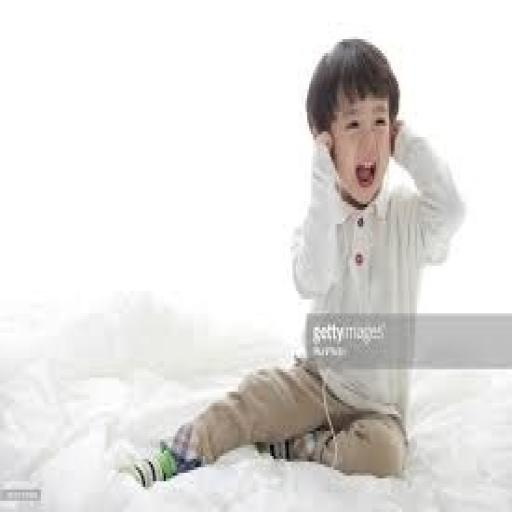listening_to_music: (116, 34, 469, 490)
